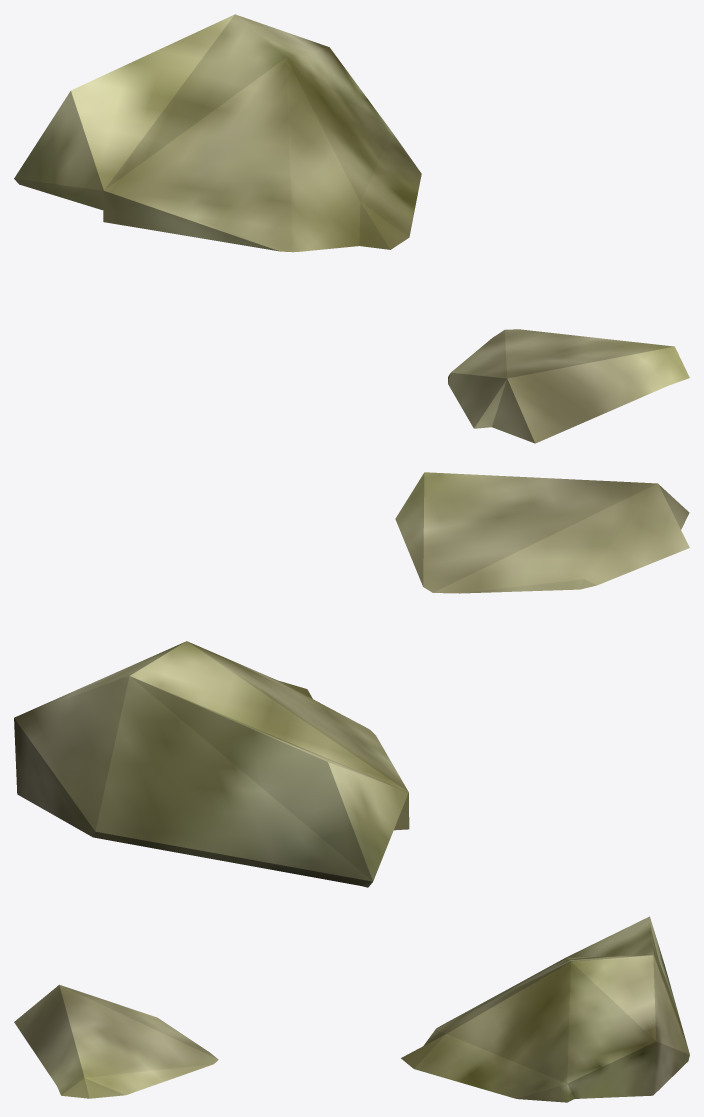
The picture shows the model from 3 angles, top to bottom: view 1: azimuth 30°, elevation 25°; view 2: azimuth 150°, elevation 25°; view 3: azimuth 270°, elevation 25°; orthographic projection. The views are drawn at different scales.
Bounding box in the file's own units: 0.292 × 0.1059 × 0.6351.
Materials: 1 (1 with a texture image).
